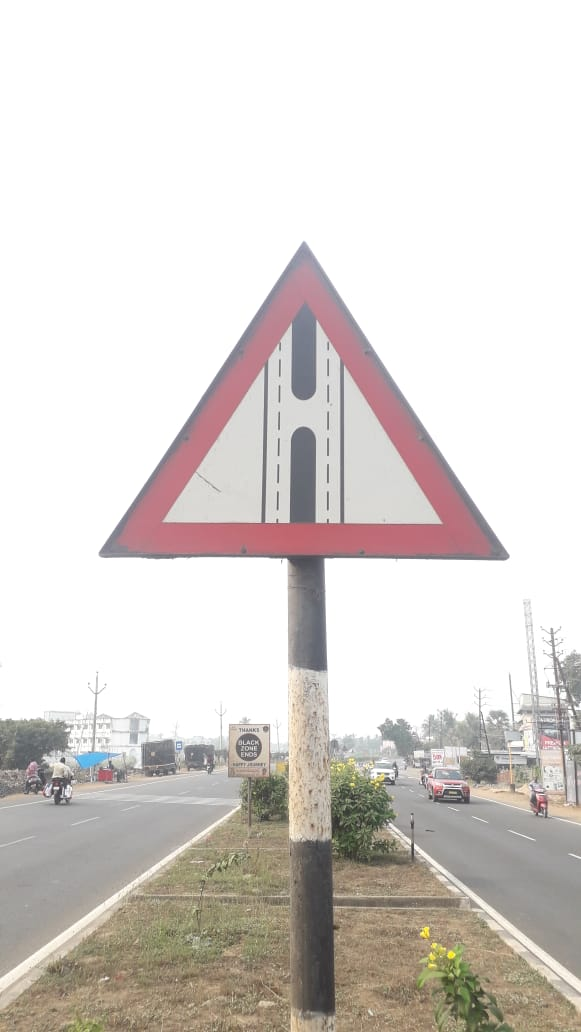highway go straight: (90, 203, 563, 649)
